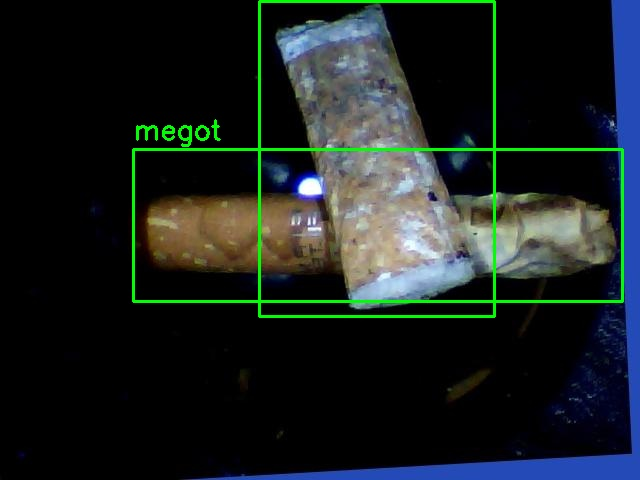megot: (133, 149, 622, 301), (259, 1, 494, 316)
